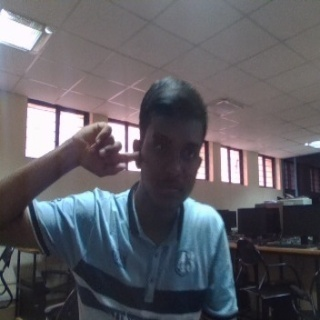Deaf: (64, 120, 140, 179)
Face: (131, 75, 208, 215)
